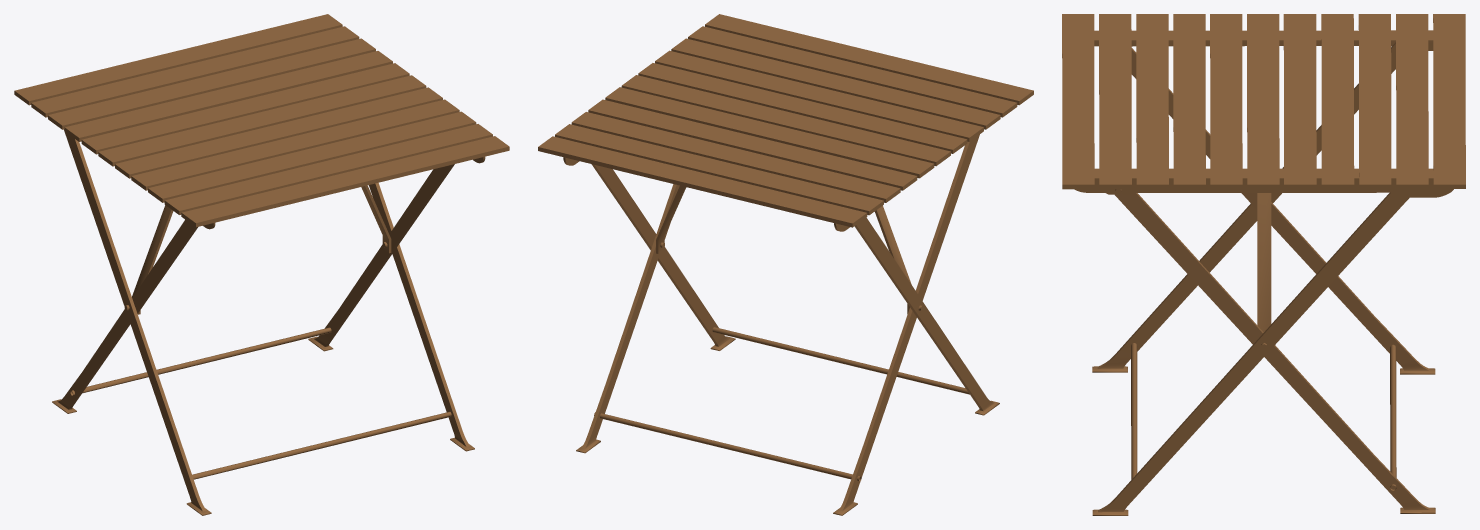
File: B_CafeTable.obj
The picture shows the model from 3 angles, left to right: view 1: azimuth 30°, elevation 25°; view 2: azimuth 150°, elevation 25°; view 3: azimuth 270°, elevation 25°; orthographic projection. The views are drawn at different scales.
Parts seen in each view (by area): view 1: B_CafeTable_m0; view 2: B_CafeTable_m0; view 3: B_CafeTable_m0.
Boxes of the visible parts, x1,y1,x2,y2 form: B_CafeTable_m0: [14, 14, 509, 515]; B_CafeTable_m0: [538, 14, 1033, 515]; B_CafeTable_m0: [1062, 14, 1465, 515].
Size of the model in its own units: 0.9009 by 0.8434 by 0.901.
